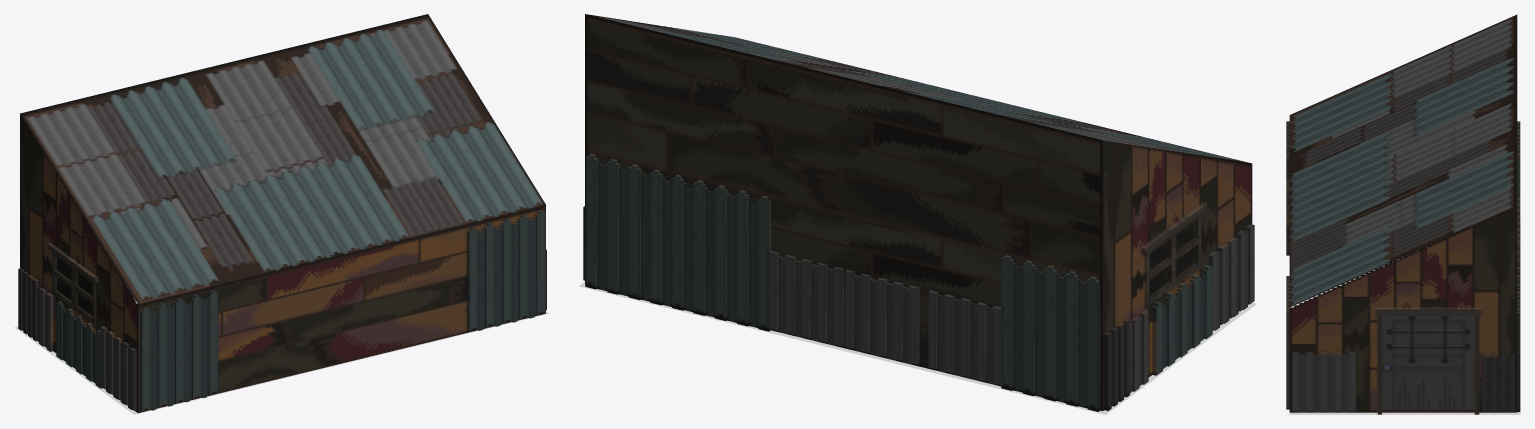
Rendered from Rumah Usang 2.fbx.
The picture shows the model from 3 angles, left to right: view 1: azimuth 30°, elevation 25°; view 2: azimuth 150°, elevation 25°; view 3: azimuth 270°, elevation 25°; orthographic projection. The views are drawn at different scales.
Parts seen in each view (by area): view 1: Plane; view 2: Plane; view 3: Plane.
Part boxes in pixels (x1=…): Plane: x1=15, y1=14, x2=548, y2=414; Plane: x1=579, y1=14, x2=1257, y2=414; Plane: x1=1286, y1=14, x2=1520, y2=414.
Bounding box in the file's own units: 63.78 × 126 × 62.13.
